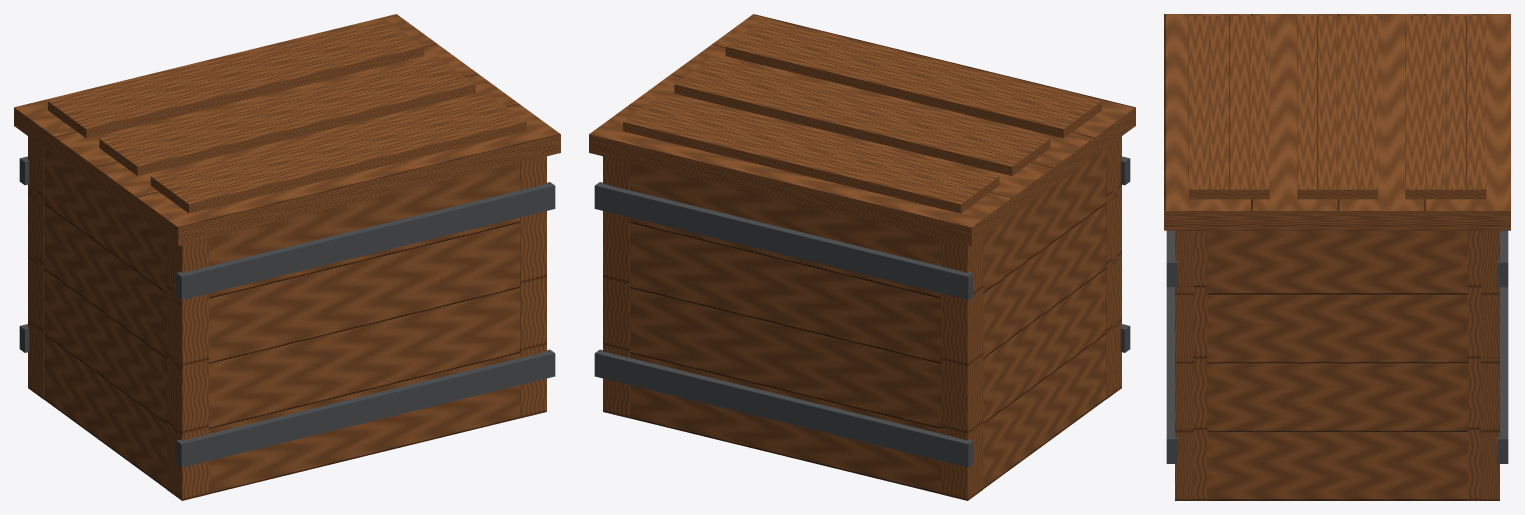
File: crate.glb
The picture shows the model from 3 angles, left to right: view 1: azimuth 30°, elevation 25°; view 2: azimuth 150°, elevation 25°; view 3: azimuth 270°, elevation 25°; orthographic projection. The views are drawn at different scales.
Visible parts, largest first — view 1: supply-crate, lid-crate; view 2: supply-crate, lid-crate; view 3: supply-crate, lid-crate.
Part boxes in pixels (x1,y1,x2,y2): supply-crate: [19, 136, 555, 500]; lid-crate: [14, 14, 560, 245]; supply-crate: [594, 136, 1130, 500]; lid-crate: [589, 14, 1135, 245]; supply-crate: [1166, 230, 1508, 500]; lid-crate: [1164, 14, 1510, 230].
Size of the model in its own units: 0.86 by 0.62 by 0.64.
2 materials, 1 textured.
